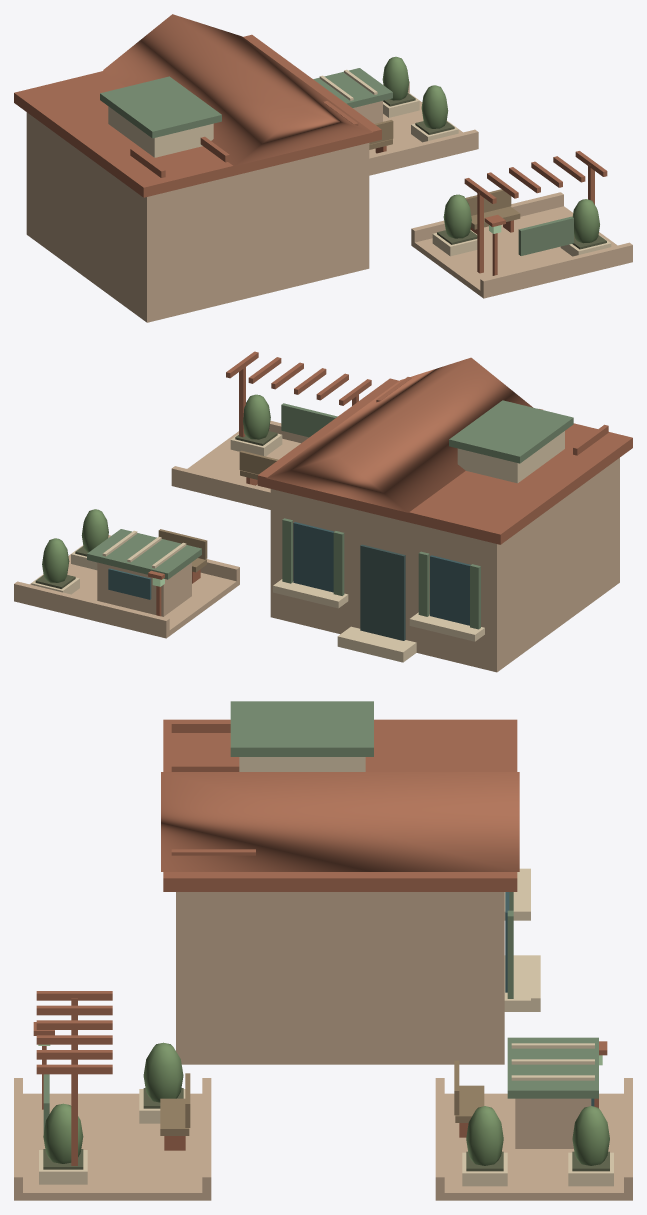
The model's file is inferno.glb.
3 views of the same model, one above another, from view 1: azimuth 30°, elevation 25°; view 2: azimuth 150°, elevation 25°; view 3: azimuth 270°, elevation 25° (orthographic). The views are drawn at different scales.
Visible parts, largest first — view 1: ARENA wall (×2), ARENA gable, ARENA roof (×2), ARENA paving (×2), ARENA stone (×5), ARENA leaves (×4), ARENA wood (×3), ARENA metal, ARENA canopy; view 2: ARENA wall (×3), ARENA gable, ARENA roof (×2), ARENA window (×4), ARENA paving (×2), ARENA stone (×4), ARENA wood (×6), ARENA trim (×3), ARENA leaves (×3), ARENA canopy, ARENA metal; view 3: ARENA wall (×3), ARENA gable, ARENA roof (×2), ARENA paving (×2), ARENA wood (×9), ARENA stone (×7), ARENA leaves (×4), ARENA canopy, ARENA trim (×3).
Boxes of the visible parts, <box> form: ARENA wall (×2): <box>26,106,369,322</box>; ARENA gable: <box>103,14,372,166</box>; ARENA roof (×2): <box>14,34,381,197</box>; ARENA paving (×2): <box>369,93,632,298</box>; ARENA stone (×5): <box>369,92,632,294</box>; ARENA leaves (×4): <box>382,56,599,243</box>; ARENA wood (×3): <box>465,189,520,273</box>; ARENA metal: <box>518,216,573,255</box>; ARENA canopy: <box>313,68,392,107</box>; ARENA wall (×3): <box>97,431,619,672</box>; ARENA gable: <box>266,357,532,512</box>; ARENA roof (×2): <box>257,378,632,544</box>; ARENA window (×4): <box>108,522,470,640</box>; ARENA paving (×2): <box>14,431,300,638</box>; ARENA stone (×4): <box>14,433,282,632</box>; ARENA wood (×6): <box>158,450,480,629</box>; ARENA trim (×3): <box>273,579,484,662</box>; ARENA leaves (×3): <box>42,394,270,582</box>; ARENA canopy: <box>87,529,201,579</box>; ARENA metal: <box>281,403,337,437</box>; ARENA wall (×3): <box>176,757,591,1148</box>; ARENA gable: <box>161,772,519,871</box>; ARENA roof (×2): <box>163,701,517,891</box>; ARENA paving (×2): <box>14,1093,632,1200</box>; ARENA wood (×9): <box>36,721,484,1135</box>; ARENA stone (×7): <box>14,1078,632,1196</box>; ARENA leaves (×4): <box>43,1042,609,1165</box>; ARENA canopy: <box>507,1037,598,1098</box>; ARENA trim (×3): <box>504,868,540,1011</box>.
Bounding box in the file's own units: 8.12 × 3.21 × 7.34.
